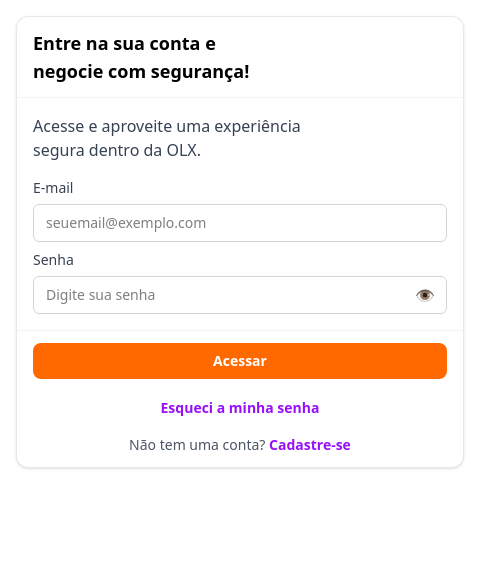
Scenario: Login Component › deve exibir erro quando email está vazio ao submeter
The width and height of the screenshot is (481, 580).
Click the button "Acessar".
click(240, 361)  # box [33,343,447,379]
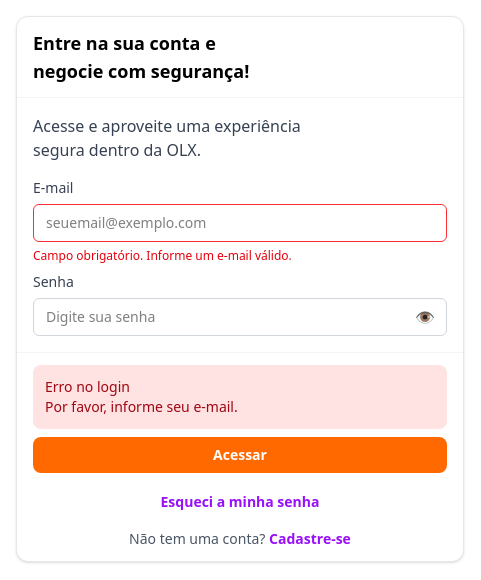
Result: the text "Por favor, informe seu e-mail." is shown at [45,397,238,416]
